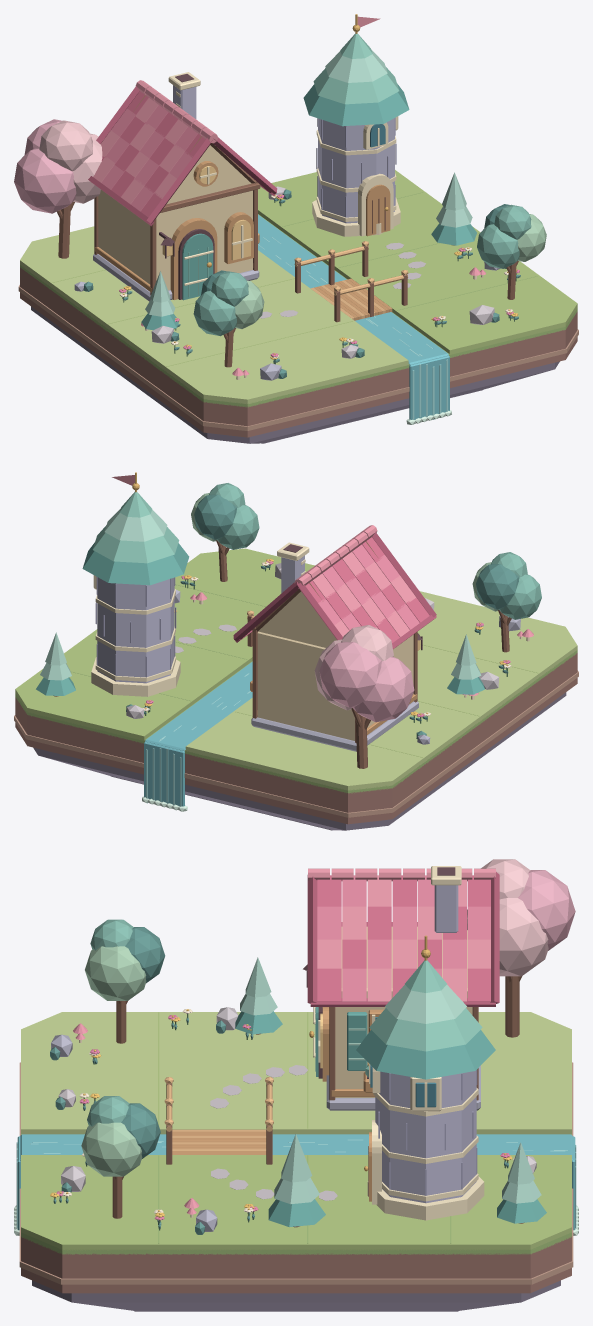
The model's file is world.glb.
The picture shows the model from 3 angles, top to bottom: view 1: azimuth 30°, elevation 25°; view 2: azimuth 150°, elevation 25°; view 3: azimuth 270°, elevation 25°; orthographic projection. The views are drawn at different scales.
Visible parts, largest first — view 1: World_GrassLight, World_GrassSage, World_SoilRose, World_CreamPlaster, World_Water, World_TowerLavender, World_MintShade, World_Timber, World_WoodHoney, World_LeafSeafoam, World_RoofBlush, World_IvoryTrim (+18 smaller); view 2: World_GrassLight, World_GrassSage, World_SoilRose, World_CreamPlaster, World_TowerLavender, World_BlossomPink, World_Water, World_RoofBlush, World_CliffLavender, World_MintShade, World_LeafSeafoam, World_IvoryTrim (+15 smaller); view 3: World_GrassLight, World_GrassSage, World_SoilRose, World_TowerLavender, World_CliffLavender, World_RoofBlush, World_MintShade, World_RoofRose, World_MintLight, World_IvoryTrim, World_RoofPink, World_Water (+18 smaller).
Part boxes in pixels (box(x1,y1,x2,y2)): World_GrassLight: box(20, 226, 408, 404); World_GrassSage: box(52, 170, 577, 366); World_SoilRose: box(20, 267, 577, 437); World_CreamPlaster: box(98, 145, 252, 290); World_Water: box(258, 214, 449, 419); World_TowerLavender: box(173, 85, 394, 223); World_MintShade: box(141, 83, 476, 330); World_Timber: box(57, 95, 518, 367); World_WoodHoney: box(94, 161, 392, 320); World_LeafSeafoam: box(193, 204, 531, 336); World_RoofBlush: box(93, 16, 485, 376); World_IvoryTrim: box(145, 72, 483, 379); World_GrassLight: box(185, 591, 577, 790); World_GrassSage: box(15, 548, 538, 757); World_SoilRose: box(15, 653, 577, 824); World_CreamPlaster: box(257, 591, 413, 740); World_TowerLavender: box(97, 555, 304, 683); World_BlossomPink: box(319, 642, 414, 722); World_Water: box(144, 662, 252, 806); World_RoofBlush: box(112, 475, 533, 695); World_CliffLavender: box(33, 692, 566, 830); World_MintShade: box(36, 542, 484, 695); World_LeafSeafoam: box(209, 483, 541, 619); World_IvoryTrim: box(91, 542, 529, 699); World_GrassLight: box(21, 1012, 571, 1134); World_GrassSage: box(21, 1012, 571, 1250); World_SoilRose: box(21, 1236, 571, 1293); World_TowerLavender: box(375, 885, 476, 1203); World_CliffLavender: box(32, 1280, 560, 1311); World_RoofBlush: box(73, 868, 495, 1214); World_MintShade: box(235, 1007, 546, 1227); World_RoofRose: box(317, 875, 490, 1001); World_MintLight: box(240, 957, 541, 1204); World_IvoryTrim: box(79, 866, 484, 1220); World_RoofPink: box(317, 875, 490, 1001); World_Water: box(17, 1134, 575, 1230).
Size of the model in its own units: 10.25 by 7.26 by 10.25.
